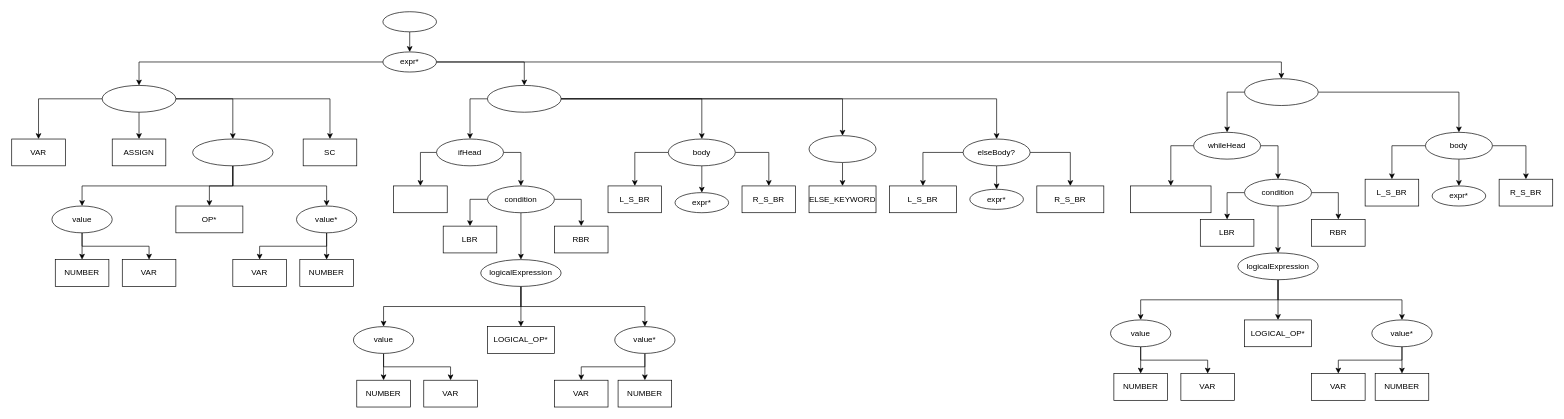
Some shapes in this 1564 by 419 pixel diagram are drawn without their labels. The shapes that lost their labels are listed below. From the top down, each one's centre as x and y in pixels, then its label:
At point (409, 21): "lang".
At point (139, 98): "assignOperation".
At point (524, 98): "ifExpression".
At point (1281, 92): "whileExpression".
At point (232, 152): "mathExpression".
At point (842, 148): "elseHead?".
At point (420, 199): "IF_KEYWORD".
At point (1170, 199): "WHILE_KEYWORD".
